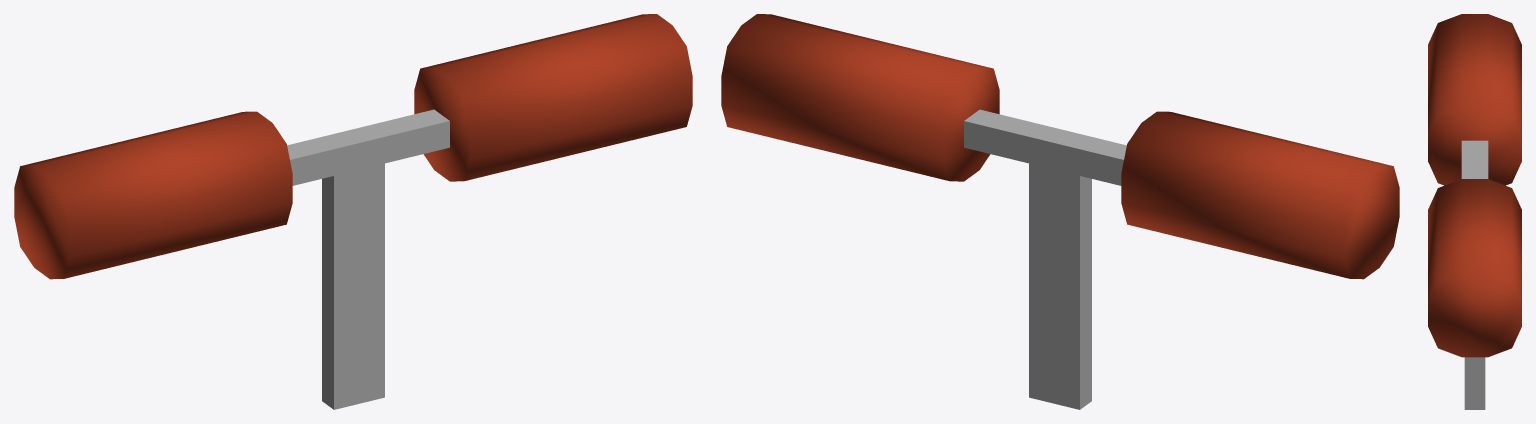
File: E_Machine_Ac_1.fbx
The picture shows the model from 3 angles, left to right: view 1: azimuth 30°, elevation 25°; view 2: azimuth 150°, elevation 25°; view 3: azimuth 270°, elevation 25°; orthographic projection. The views are drawn at different scales.
Visible parts, largest first — view 1: E_Machine_Ac_1; view 2: E_Machine_Ac_1; view 3: E_Machine_Ac_1.
Boxes of the visible parts, x1,y1,x2,y2 form: E_Machine_Ac_1: (14, 14, 692, 409); E_Machine_Ac_1: (721, 14, 1399, 409); E_Machine_Ac_1: (1428, 14, 1521, 409).
Size of the model in its own units: 74.08 by 34.51 by 11.44.
